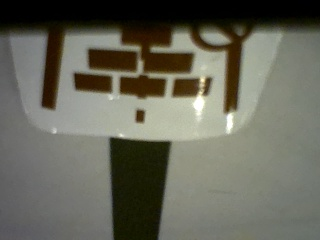Clearing_Zone: (41, 27, 248, 125)
